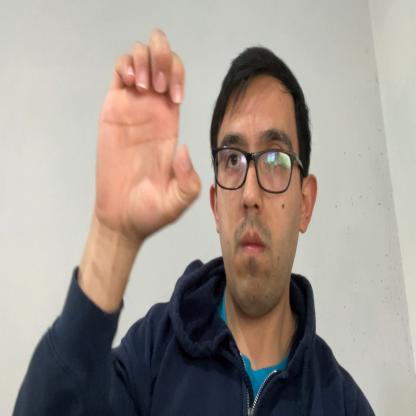E: (95, 27, 203, 236)
